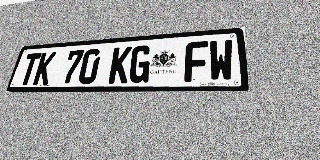0: (77, 48, 102, 84)
7: (60, 50, 85, 84)
F: (184, 41, 208, 82)
G: (128, 45, 152, 83)
K: (108, 46, 132, 84), (32, 52, 57, 85)
T: (17, 53, 42, 85)
W: (209, 39, 234, 82)
